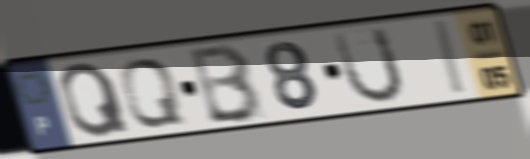8: (264, 40, 322, 113)
B: (188, 41, 266, 126)
I: (433, 17, 470, 98)
Q: (56, 59, 134, 140), (117, 56, 188, 130)
U: (330, 24, 407, 107)
